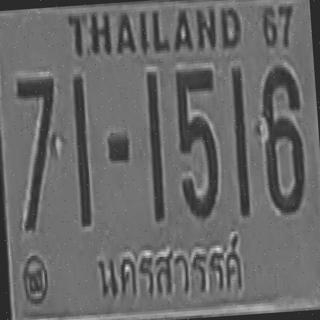N01: (70, 72, 92, 226), (229, 67, 251, 217), (144, 71, 166, 221)
N05: (173, 64, 222, 220)
N06: (258, 64, 306, 214)
N07: (15, 74, 63, 232), (15, 75, 62, 217)
P31: (85, 224, 248, 312)
